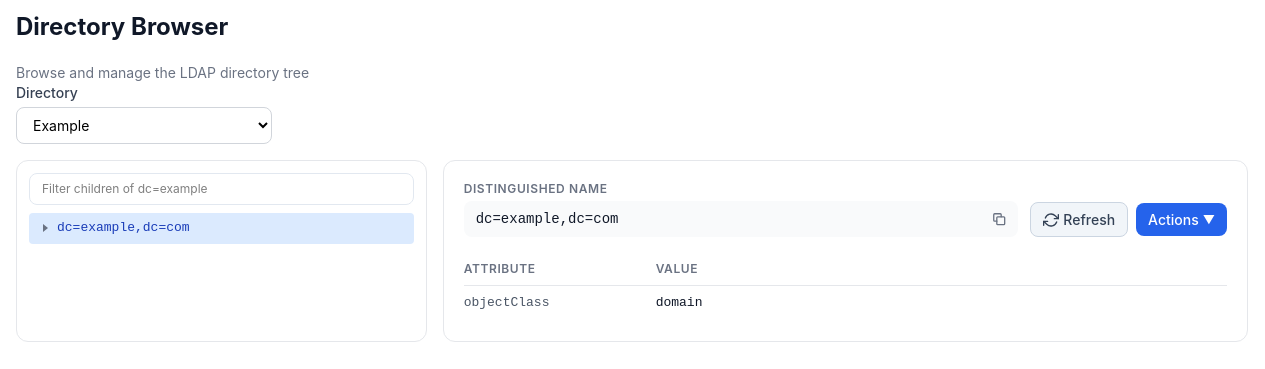
Test: DirectoryBrowserView branch paging + filter › expanding a branch asks for a bounded page and offers Load all when truncated
Click the button named "Toggle children" at (45, 228), box [37, 220, 53, 236]
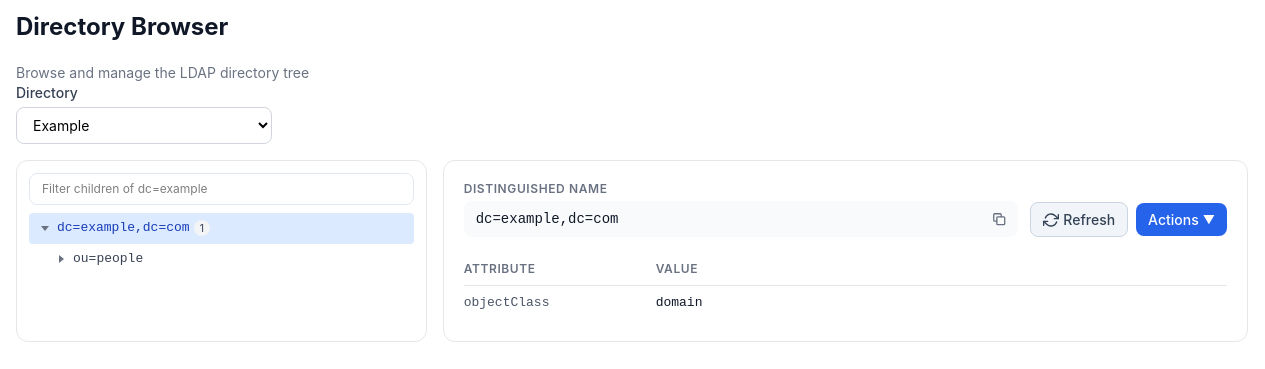
Click the button named "Toggle children" next to "ou=people" at (61, 259), box [53, 251, 69, 267]
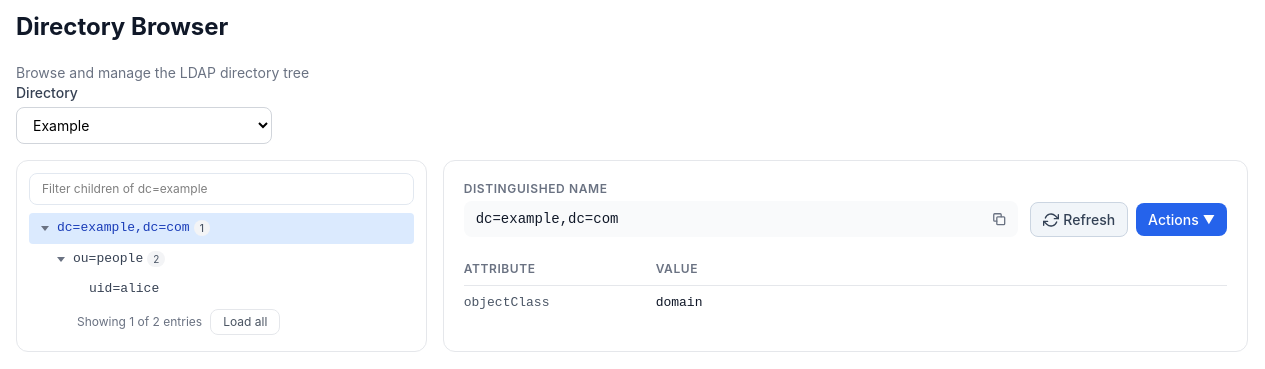
Expected: the text "uid=bob" is not shown
Now the text "Showing 1 of 2 entries" is shown, box [77, 314, 202, 330]
Click the button "Load all" at (245, 322), box [210, 309, 280, 335]
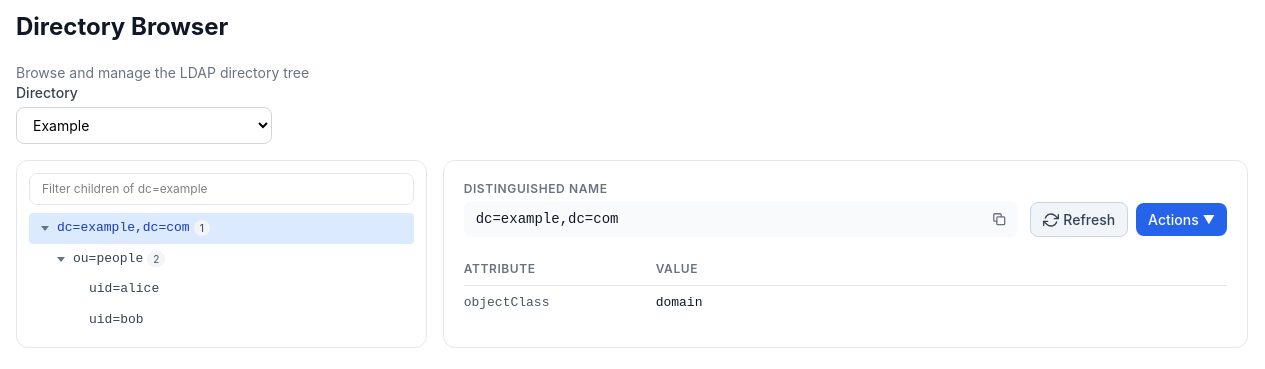
Now the text "uid=bob" is shown, box [89, 311, 144, 329]
